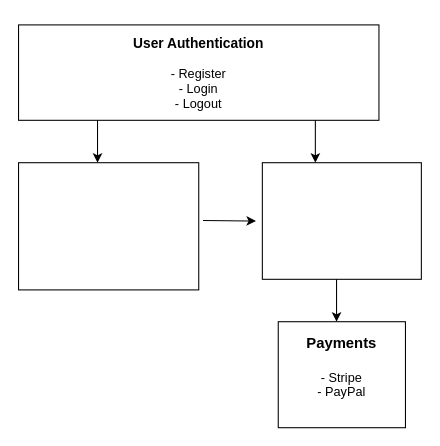
This 440x446 diagram has some shape labels left out. The centre of each missing label's shape, as x and y in pixels:
"Booking System - Create Booking - Update Booking - Cancel Booking" goes at point 341,220.
"Property Management - Create Property - Update Property - Delete Property" goes at point 108,226.
